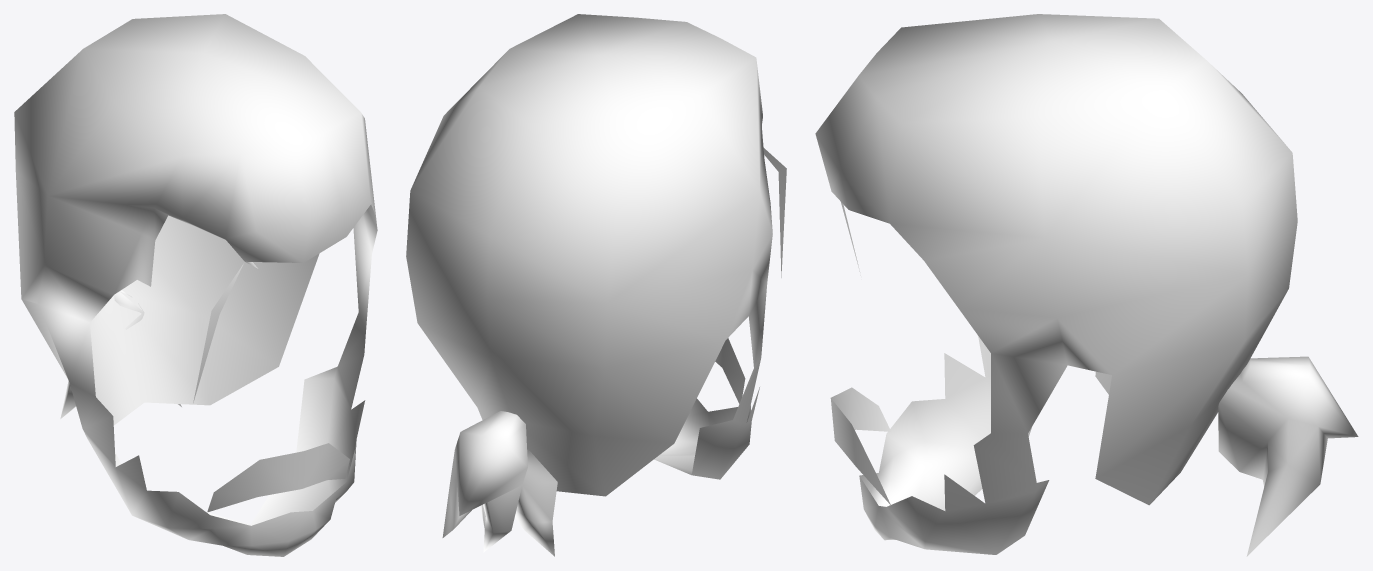
The model's file is BigCEO.fbx.
3 views of the same model, side by side, from view 1: azimuth 30°, elevation 25°; view 2: azimuth 150°, elevation 25°; view 3: azimuth 270°, elevation 25° (orthographic). The views are drawn at different scales.
Visible parts, largest first — view 1: Big CEO; view 2: Big CEO; view 3: Big CEO.
Boxes of the visible parts, box(x1,y1,x2,y2) form: Big CEO: box(14, 14, 377, 556); Big CEO: box(406, 14, 786, 556); Big CEO: box(815, 14, 1358, 556).
Bounding box in the file's own units: 0.2128 × 0.285 × 0.2873.
